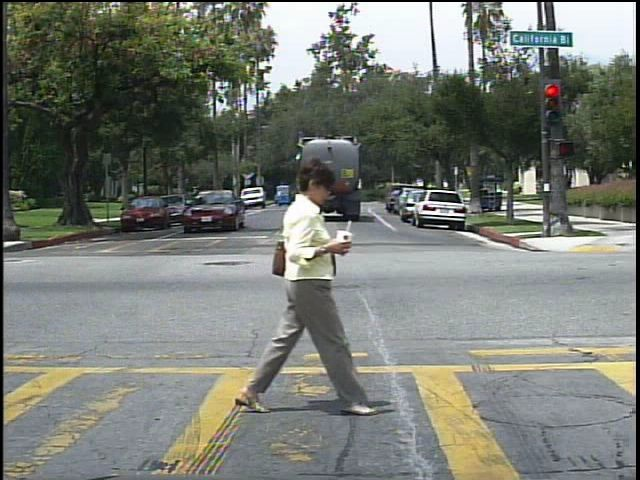person: (239, 151, 359, 423), (515, 180, 528, 199)
